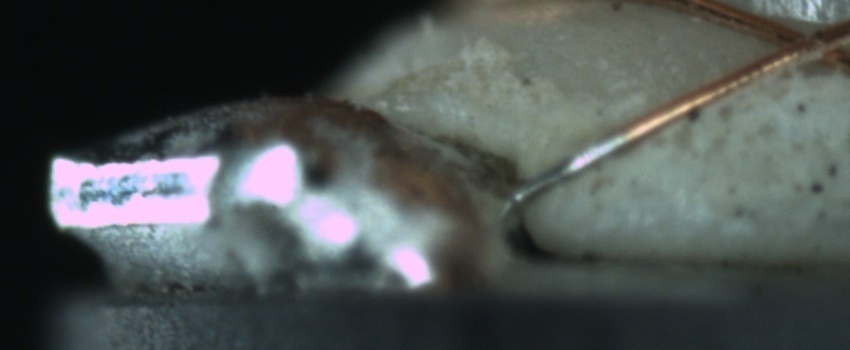CL: (754, 9, 848, 77)
TS: (511, 130, 624, 205)
TTCW: (509, 109, 654, 208)
